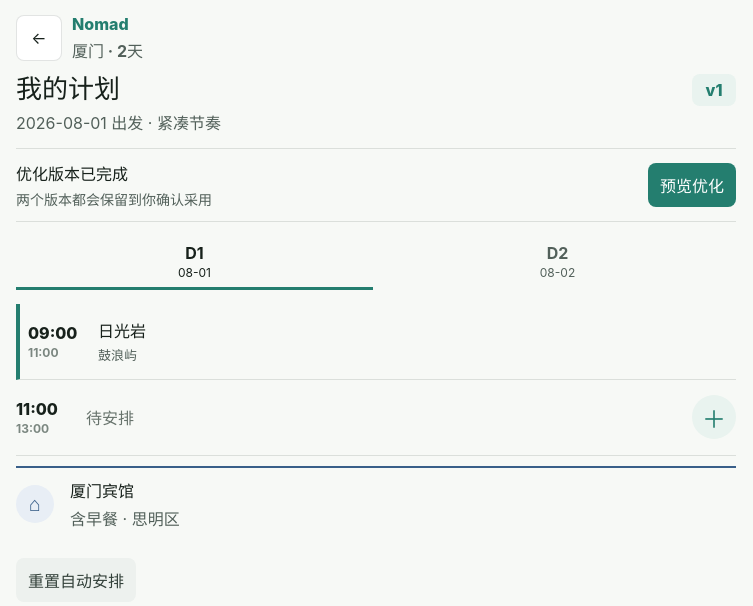
DayPlanScreen › renders Quick first with stable day tabs, slots, and per-date hotel state
Check: the heading "我的计划" is shown, box [16,73,120,104]
Check: the text "日光岩" is shown, box [98,321,146,341]
Click the button "D2 08-02": x=558, y=263 [379,236,736,290]
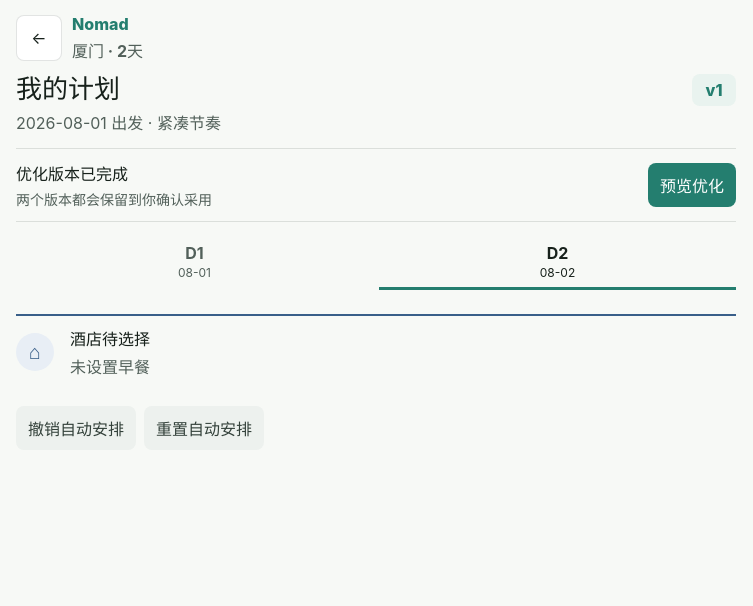
Check: the text "酒店待选择" is shown, box [70,329,150,349]
